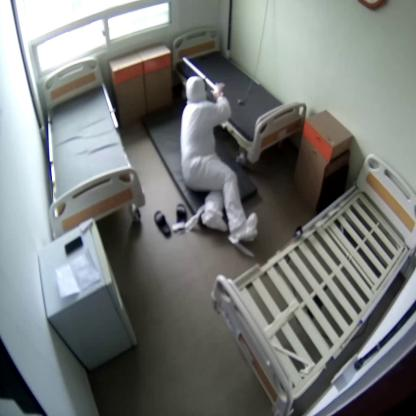Person: (181, 77, 256, 241)
